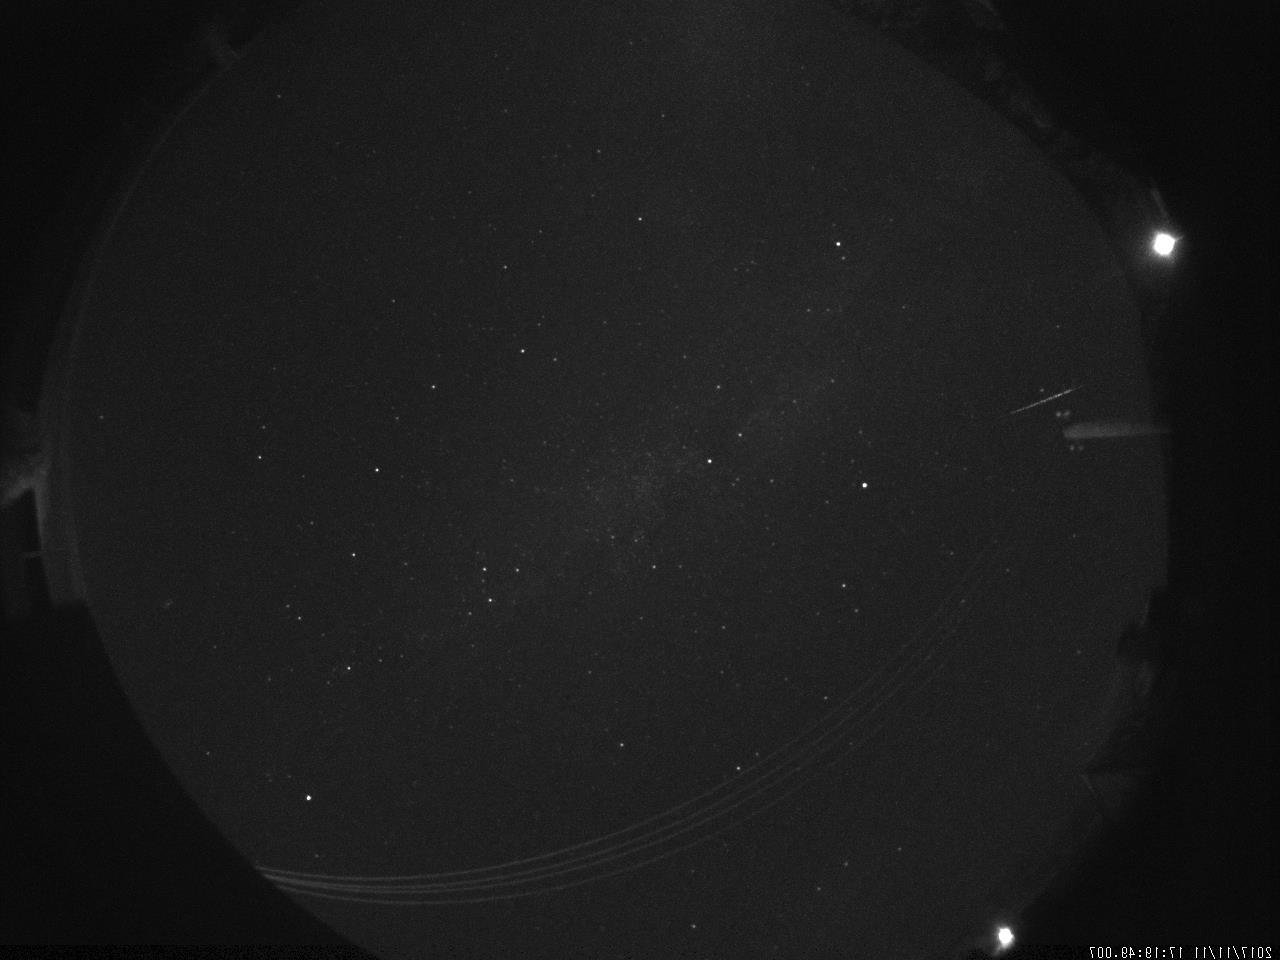meteor: (996, 381, 1099, 422)
